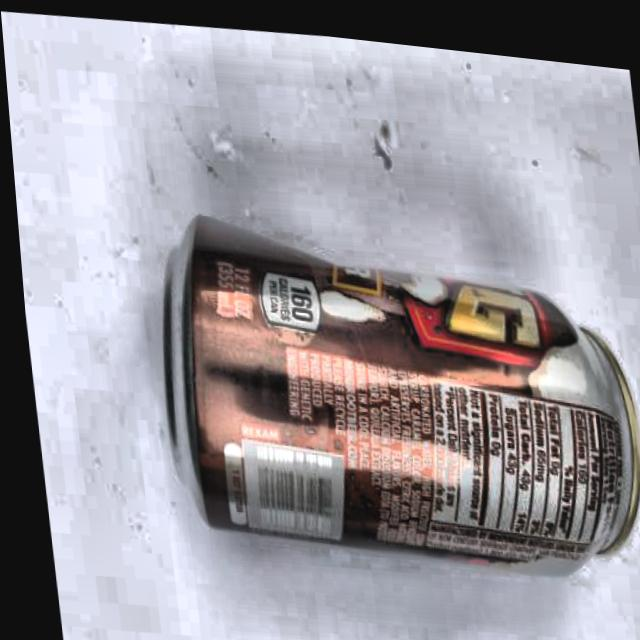Cans: (107, 163, 640, 623)
